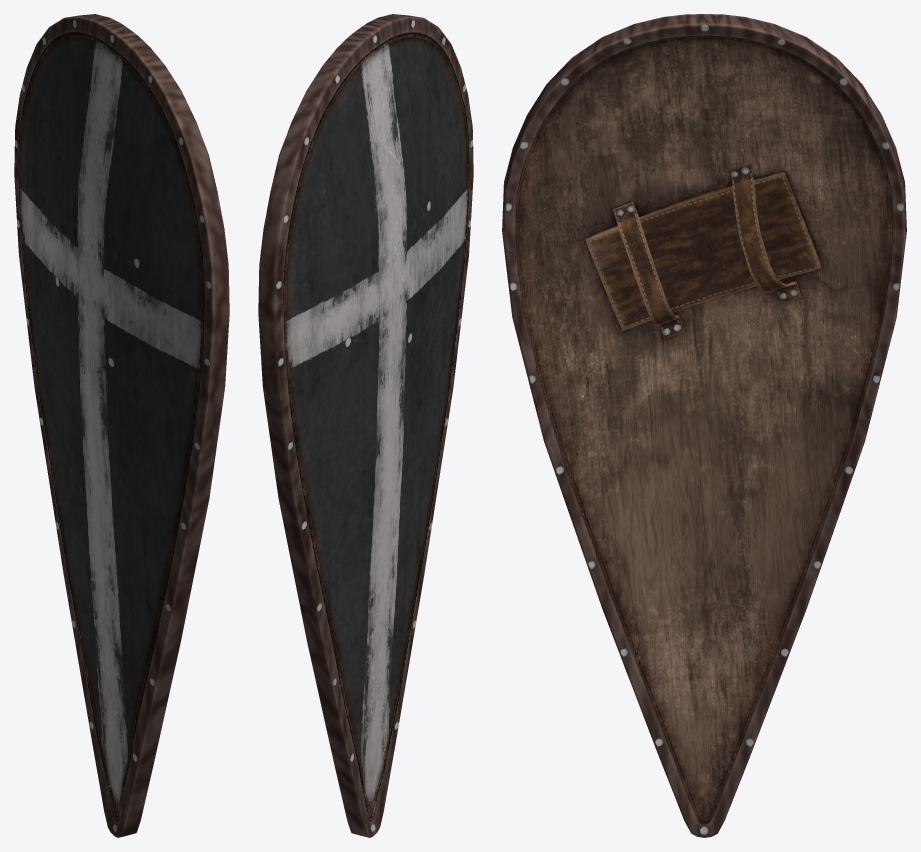
File: Kite_Shield_04.fbx
3 renders of one model, left to right at view 1: azimuth 30°, elevation 25°; view 2: azimuth 150°, elevation 25°; view 3: azimuth 270°, elevation 25°, orthographic.
Parts seen in each view (by area): view 1: Kite_Shield_04_LOD0; view 2: Kite_Shield_04_LOD0; view 3: Kite_Shield_04_LOD0.
Boxes of the visible parts, x1,y1,x2,y2 form: Kite_Shield_04_LOD0: (14,14,229,837); Kite_Shield_04_LOD0: (258,14,473,837); Kite_Shield_04_LOD0: (502,14,906,837).
Size of what is drawn, in the model's own units: 6.87 by 125 by 56.16.
